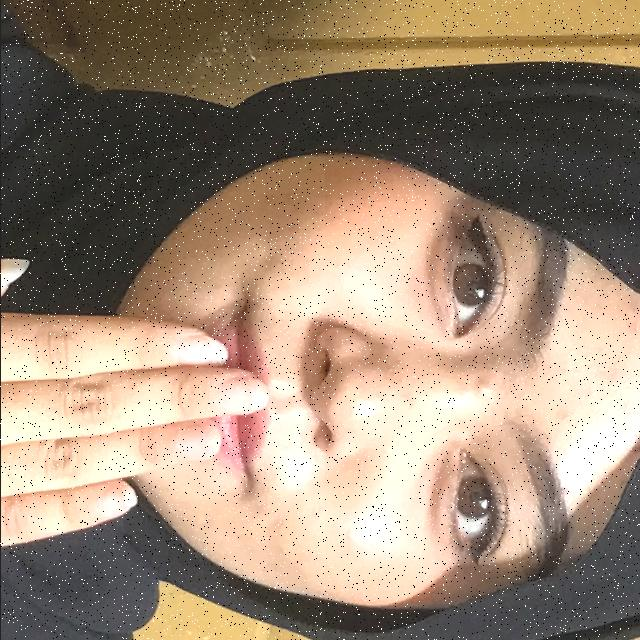ganteng: (0, 140, 324, 640)
